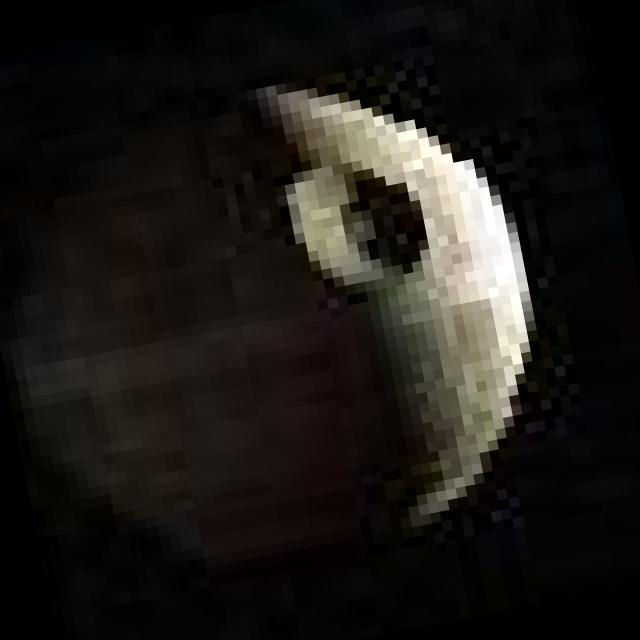Death Star: (0, 46, 558, 599)
